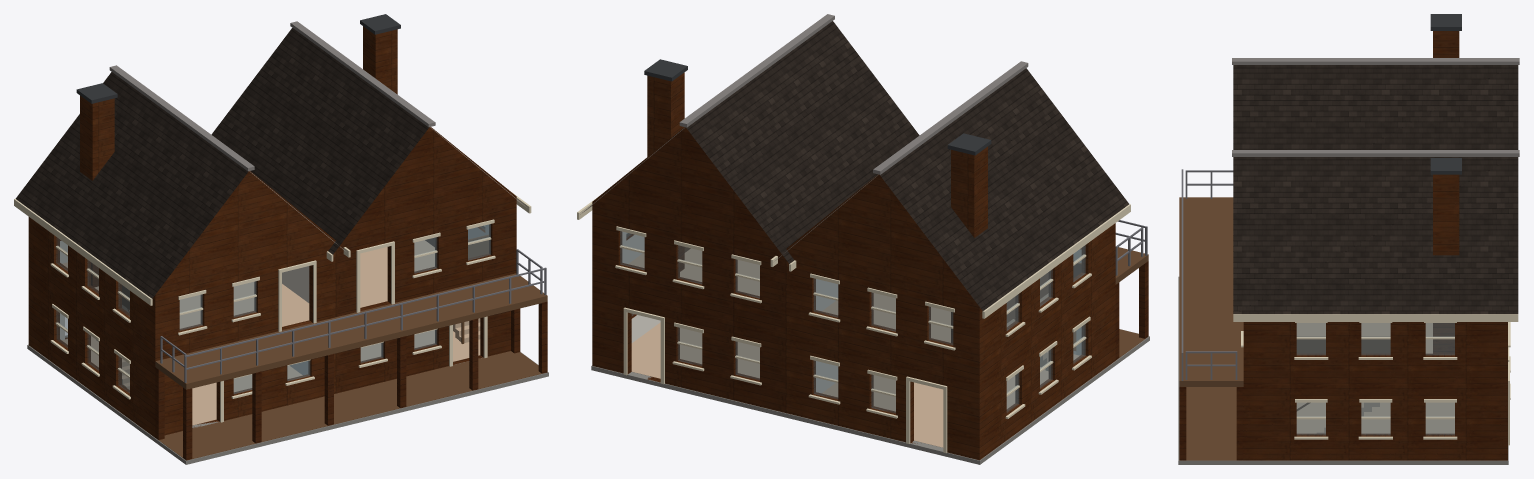
File: rw-cabin-duplex.towns-v1.lod0.glb
The picture shows the model from 3 angles, left to right: view 1: azimuth 30°, elevation 25°; view 2: azimuth 150°, elevation 25°; view 3: azimuth 270°, elevation 25°; orthographic projection. The views are drawn at different scales.
Parts seen in each view (by area): view 1: rw-cabin-duplex; view 2: rw-cabin-duplex; view 3: rw-cabin-duplex.
Part boxes in pixels (x1,y1,x2,y2): rw-cabin-duplex: (14, 14, 548, 464); rw-cabin-duplex: (577, 14, 1149, 464); rw-cabin-duplex: (1178, 14, 1519, 464).
Size of the model in its own units: 15.58 by 10.54 by 11.63.
6 materials, 2 textured.
